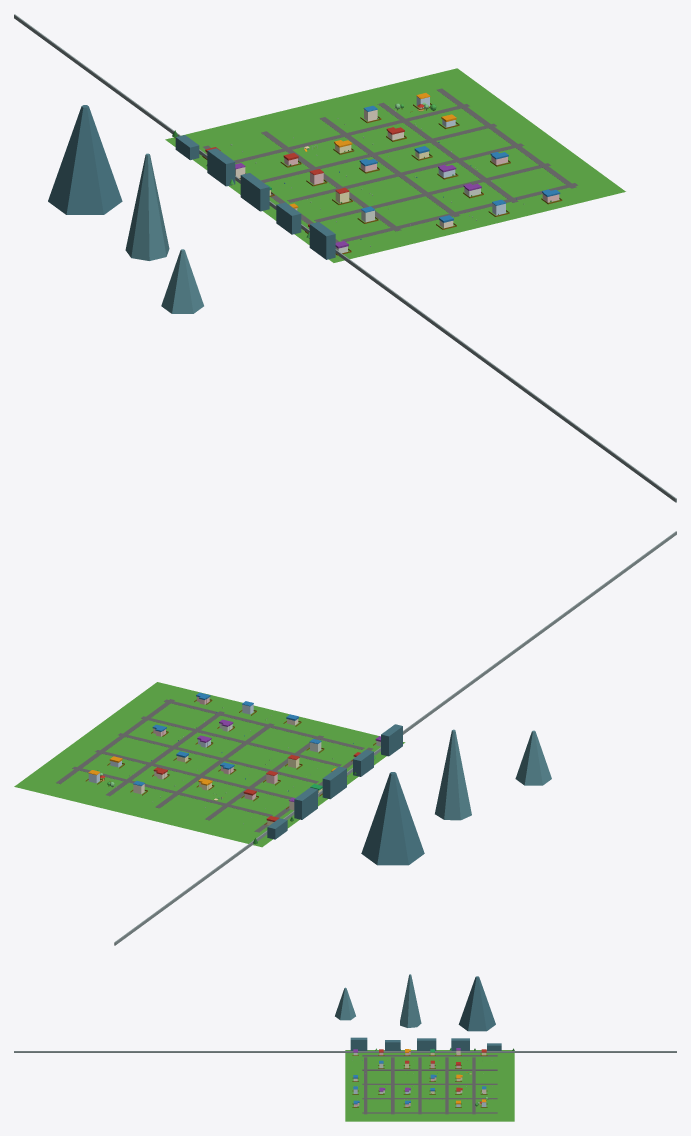
Rendered from sector_r1_c0.glb.
The picture shows the model from 3 angles, top to bottom: view 1: azimuth 30°, elevation 25°; view 2: azimuth 150°, elevation 25°; view 3: azimuth 270°, elevation 25°; orthographic projection. The views are drawn at different scales.
Visible parts, largest first — view 1: GROUND_r1_c0, MOUNTAIN_18, WALL_Boundary_W, MOUNTAIN_19, MOUNTAIN_20, ROAD_Side_3, ROAD_Side_4, ROAD_Side_2, ROAD_Side_1, WALL_WestCliff_12, ROAD_Side_9, ROAD_Side_8 (+4 smaller); view 2: GROUND_r1_c0, MOUNTAIN_18, WALL_Boundary_W, MOUNTAIN_19, MOUNTAIN_20, ROAD_Side_1, ROAD_Side_2, ROAD_Side_0, ROAD_Side_3, WALL_WestCliff_12, ROAD_Side_9; view 3: GROUND_r1_c0, WALL_Boundary_W, MOUNTAIN_18, MOUNTAIN_19, MOUNTAIN_20, ROAD_Side_9, ROAD_Side_6, WALL_WestCliff_12, ROAD_Side_5, ROAD_Side_7, WALL_WestCliff_10, ROAD_Side_8.
Boxes of the visible parts, bbox=[...] form: GROUND_r1_c0: bbox=[165, 68, 625, 262]; MOUNTAIN_18: bbox=[48, 105, 122, 214]; WALL_Boundary_W: bbox=[14, 14, 676, 502]; MOUNTAIN_19: bbox=[125, 153, 169, 260]; MOUNTAIN_20: bbox=[161, 249, 203, 313]; ROAD_Side_3: bbox=[261, 123, 496, 182]; ROAD_Side_4: bbox=[234, 104, 469, 163]; ROAD_Side_2: bbox=[287, 143, 523, 202]; ROAD_Side_1: bbox=[314, 163, 550, 222]; WALL_WestCliff_12: bbox=[240, 173, 269, 211]; ROAD_Side_9: bbox=[436, 88, 576, 188]; ROAD_Side_8: bbox=[378, 102, 518, 202]; GROUND_r1_c0: bbox=[14, 682, 405, 847]; MOUNTAIN_18: bbox=[361, 772, 424, 865]; WALL_Boundary_W: bbox=[114, 531, 676, 945]; MOUNTAIN_19: bbox=[435, 729, 471, 820]; MOUNTAIN_20: bbox=[515, 730, 551, 785]; ROAD_Side_1: bbox=[141, 716, 341, 766]; ROAD_Side_2: bbox=[118, 733, 318, 783]; ROAD_Side_0: bbox=[164, 699, 364, 749]; ROAD_Side_3: bbox=[95, 750, 292, 799]; WALL_WestCliff_12: bbox=[322, 766, 346, 799]; ROAD_Side_9: bbox=[56, 699, 174, 783]; GROUND_r1_c0: bbox=[345, 1050, 514, 1121]; WALL_Boundary_W: bbox=[14, 1051, 676, 1052]; MOUNTAIN_18: bbox=[458, 976, 495, 1031]; MOUNTAIN_19: bbox=[400, 974, 421, 1027]; MOUNTAIN_20: bbox=[335, 987, 355, 1020]; ROAD_Side_9: bbox=[362, 1112, 497, 1113]; ROAD_Side_6: bbox=[362, 1069, 497, 1070]; WALL_WestCliff_12: bbox=[417, 1038, 436, 1050]; ROAD_Side_5: bbox=[362, 1055, 497, 1056]; ROAD_Side_7: bbox=[362, 1083, 497, 1084]; WALL_WestCliff_10: bbox=[350, 1037, 367, 1050]; ROAD_Side_8: bbox=[362, 1098, 497, 1099].
Bounding box in the file's own units: 393 × 79.35 × 980.
